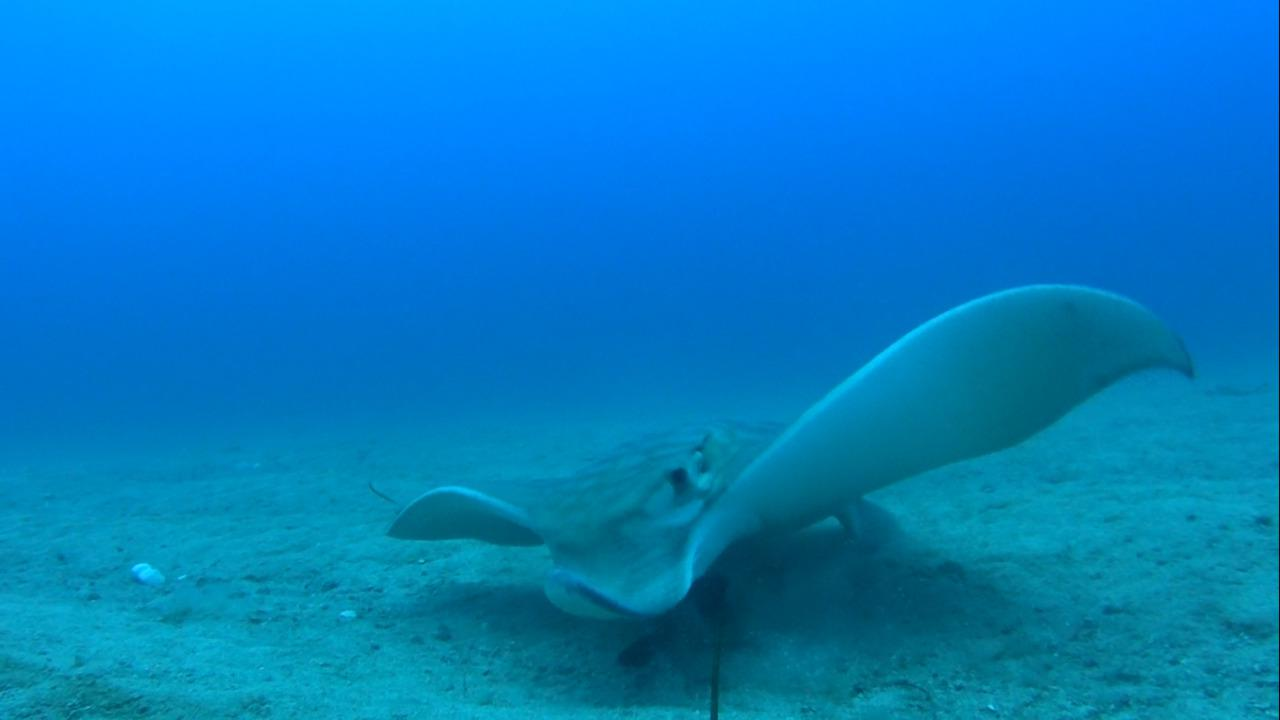myliobatis: (370, 278, 1206, 633)
